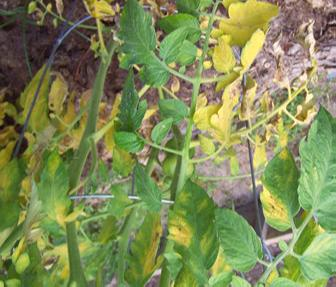Tomato leaf yellow virus: (169, 170, 232, 287), (110, 0, 178, 94), (293, 100, 336, 234), (248, 152, 307, 238), (40, 144, 78, 233), (295, 235, 336, 283)
